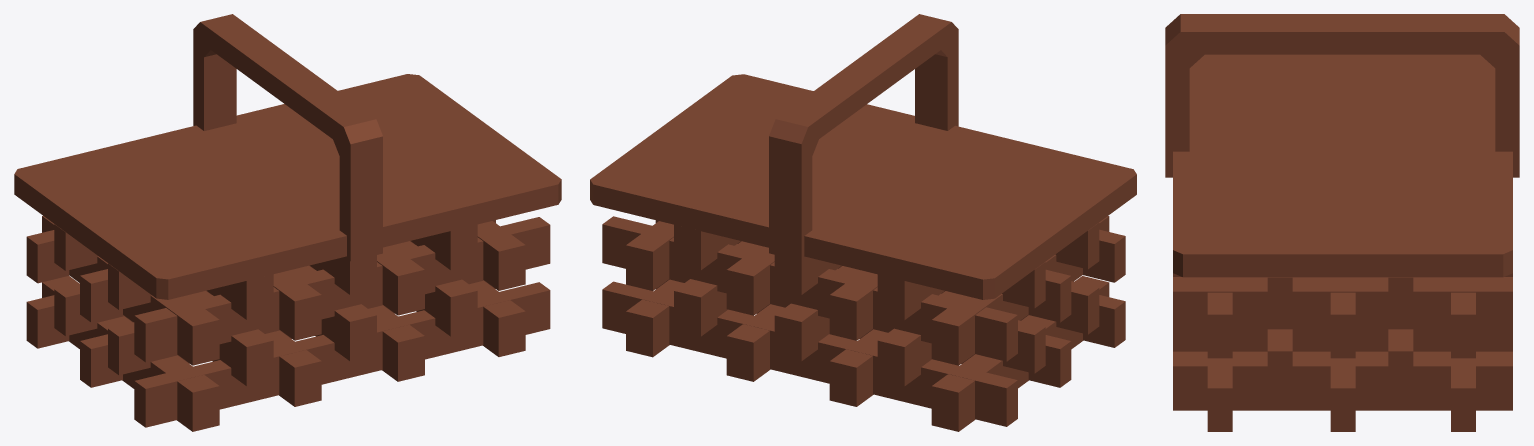
File: basketLight.obj
3 views of the same model, side by side, from view 1: azimuth 30°, elevation 25°; view 2: azimuth 150°, elevation 25°; view 3: azimuth 270°, elevation 25° (orthographic). The views are drawn at different scales.
Parts seen in each view (by area): view 1: Box276; view 2: Box276; view 3: Box276.
Boxes of the visible parts, <box> form: Box276: <box>14,14,561,431</box>; Box276: <box>590,14,1136,431</box>; Box276: <box>1165,14,1519,431</box>.
Bounding box in the file's own units: 89.68 × 56 × 60.26.
